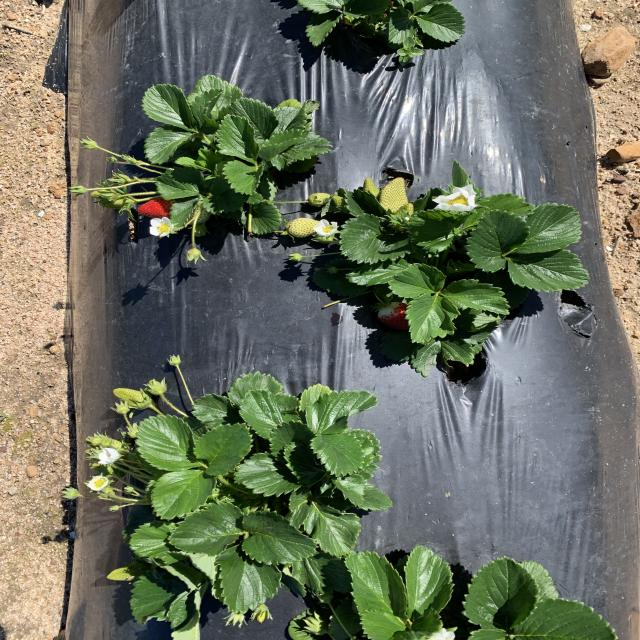unripe: (374, 298, 419, 335), (136, 194, 185, 221)
